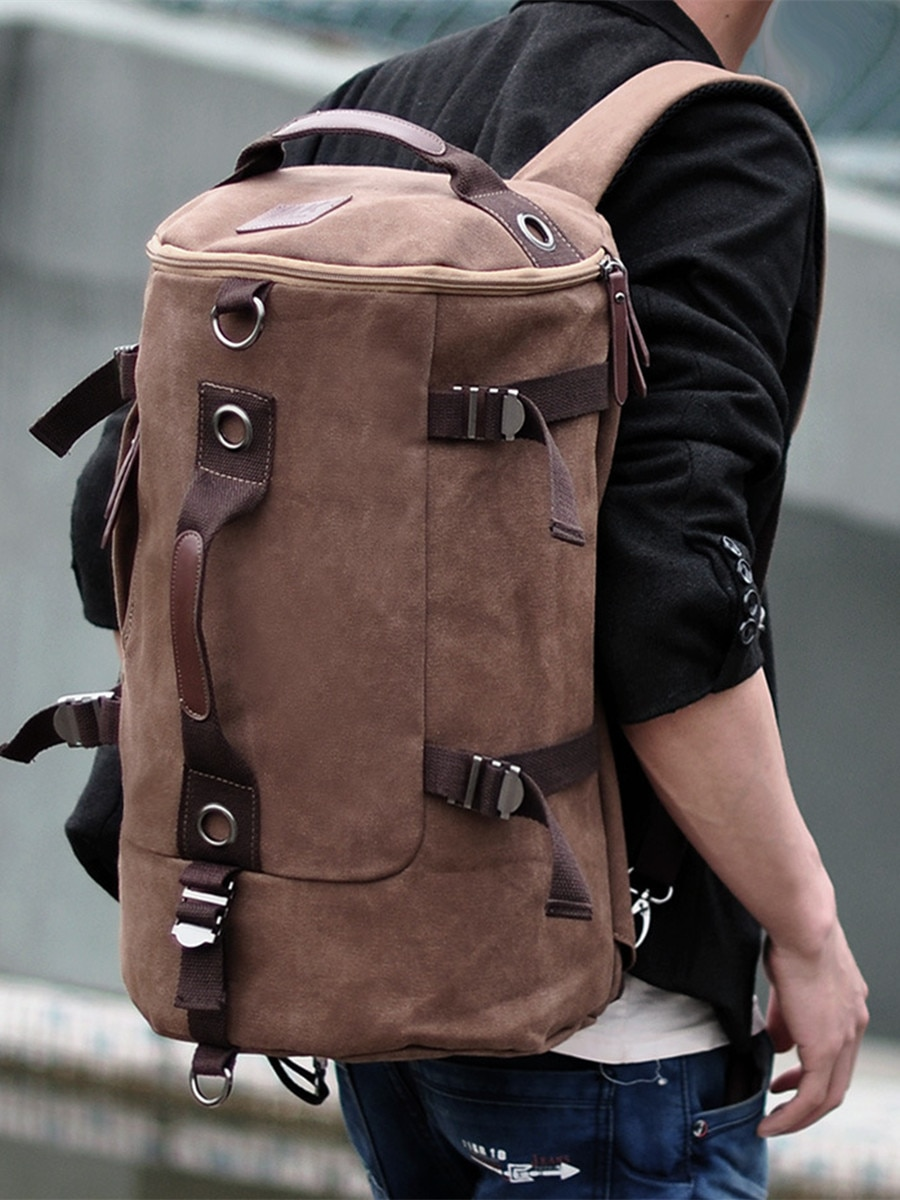Men's Backpacks: (112, 103, 639, 1110)
Tops: (343, 25, 825, 1041)
